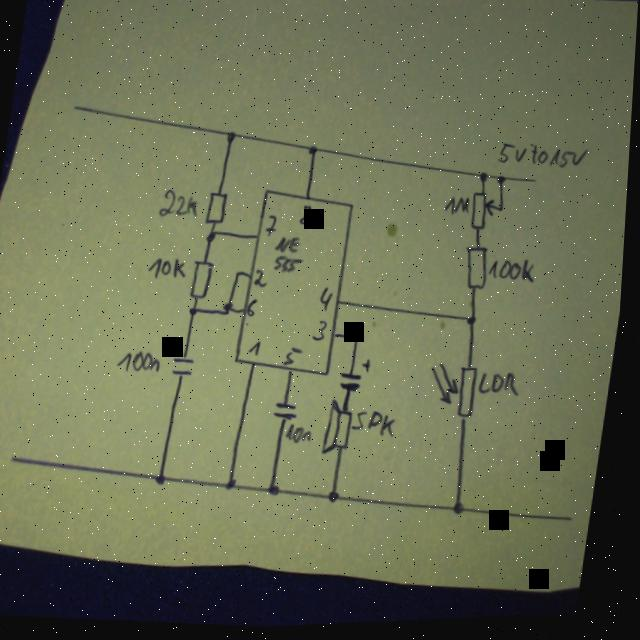capacitor: (341, 358, 376, 396), (173, 354, 201, 381), (277, 403, 304, 426)
junction: (224, 303, 238, 318), (332, 492, 346, 507), (458, 504, 471, 520), (208, 229, 220, 246), (272, 485, 285, 499), (230, 480, 243, 493), (160, 474, 173, 487), (226, 132, 238, 146), (480, 174, 492, 187), (469, 318, 481, 331), (308, 146, 320, 158), (497, 178, 509, 190), (191, 306, 202, 319), (237, 271, 244, 279), (357, 335, 364, 343)
resistor: (427, 363, 485, 427), (470, 193, 508, 237), (463, 248, 495, 295), (191, 259, 219, 304), (206, 191, 231, 227)
terminal: (12, 451, 27, 466), (70, 101, 84, 115), (572, 519, 581, 528), (533, 181, 541, 189)
text: (497, 142, 592, 178), (159, 187, 204, 222), (273, 235, 310, 277), (355, 410, 402, 443), (489, 260, 541, 289), (120, 347, 167, 377), (481, 373, 526, 403), (149, 256, 192, 282), (288, 424, 319, 448), (445, 199, 474, 221), (321, 288, 337, 315), (286, 348, 307, 368), (315, 321, 332, 345), (266, 216, 281, 239), (256, 270, 272, 290), (300, 206, 314, 228), (249, 299, 262, 320), (251, 341, 265, 359)
